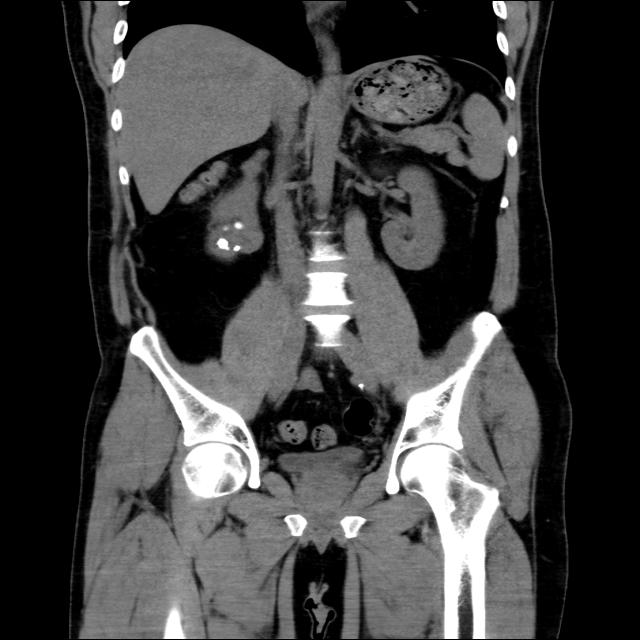kidneystone: (216, 238, 242, 251), (234, 221, 244, 229)
